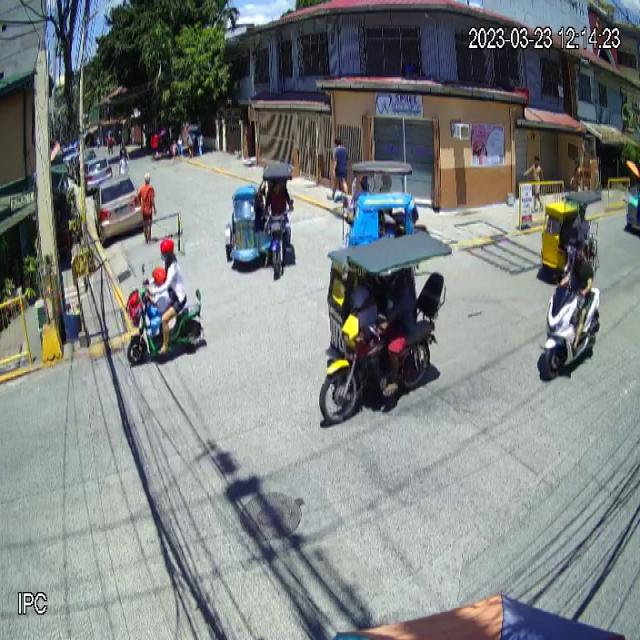Motorcycle: (538, 279, 600, 387)
Tricycle: (315, 234, 454, 430), (222, 162, 299, 279)
